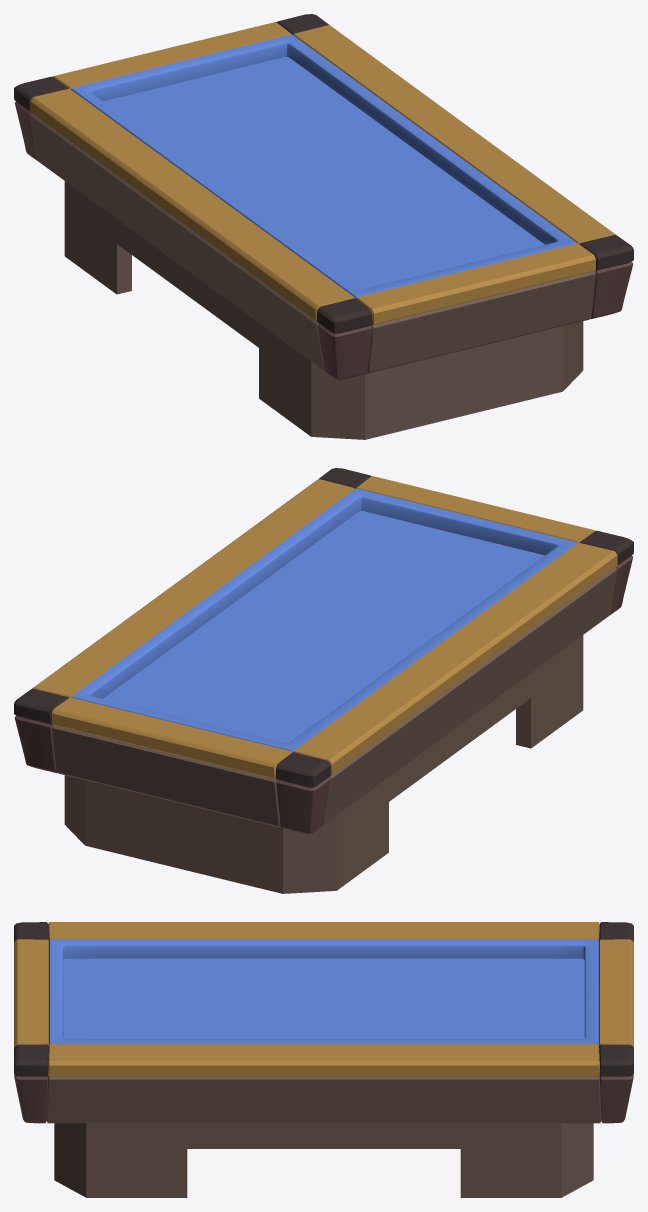
The model's file is 1746116657007-billard_table.glb.
3 views of the same model, one above another, from view 1: azimuth 30°, elevation 25°; view 2: azimuth 150°, elevation 25°; view 3: azimuth 270°, elevation 25° (orthographic). The views are drawn at different scales.
Parts seen in each view (by area): view 1: Billard; view 2: Billard; view 3: Billard.
Part boxes in pixels (x1,y1,x2,y2): Billard: [14, 14, 633, 439]; Billard: [14, 468, 633, 893]; Billard: [14, 922, 633, 1197].
Size of the model in its own units: 1.52 by 0.7116 by 2.81.
